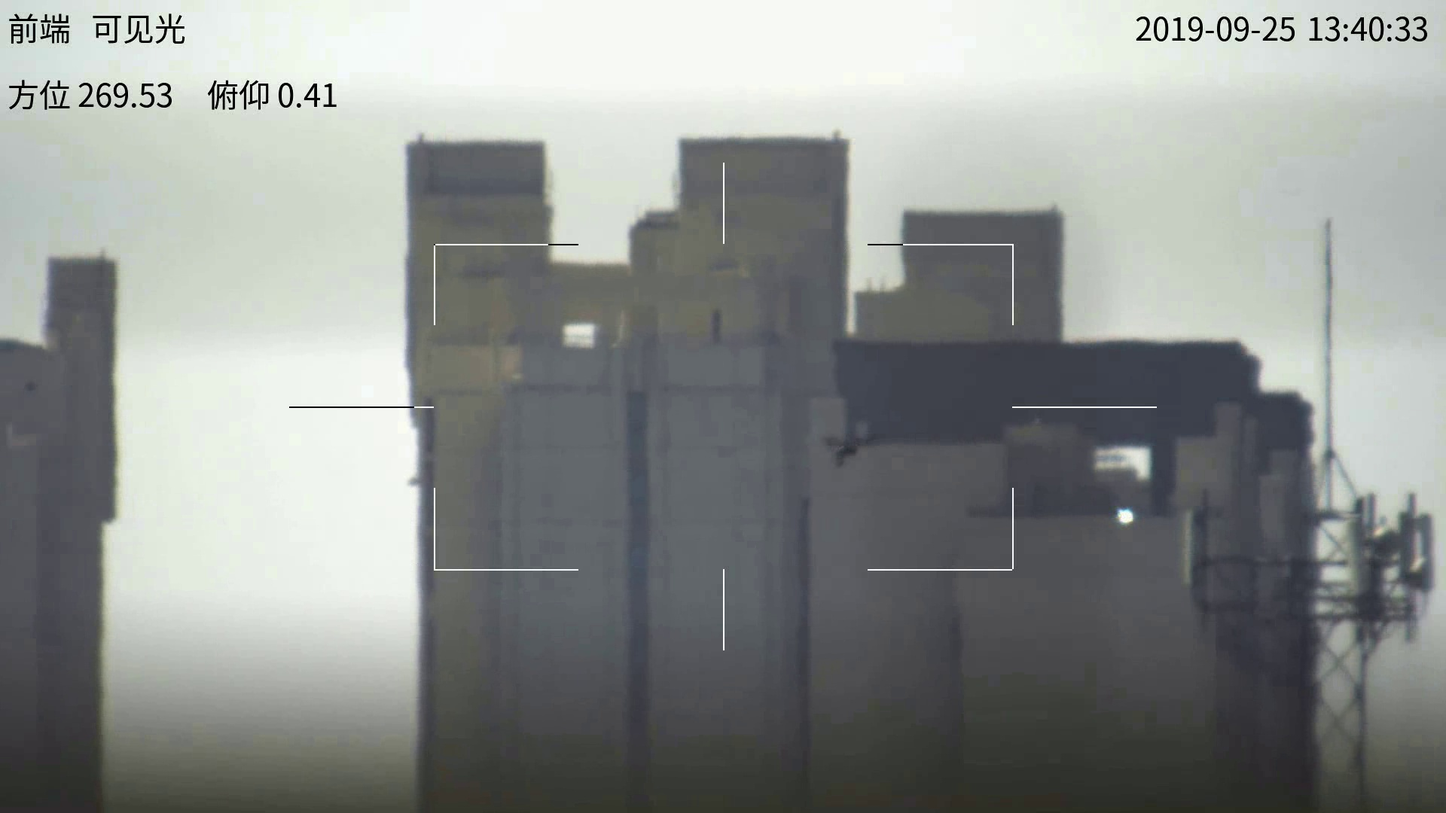drone_other: (825, 434, 867, 477)
